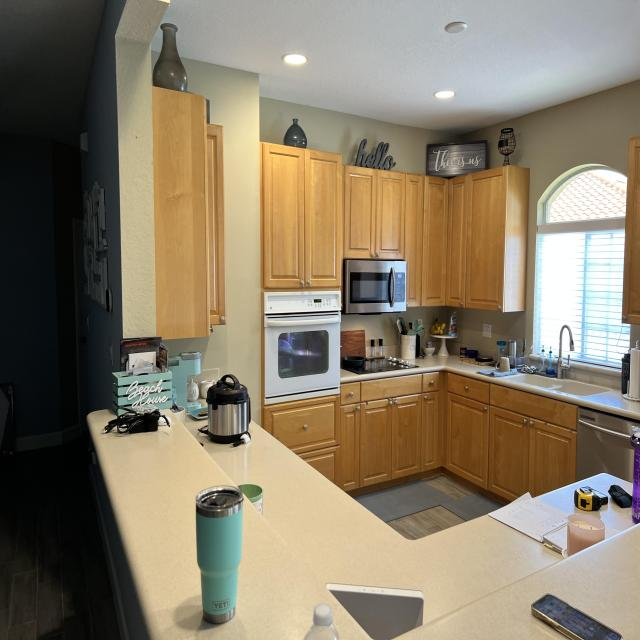Appliance_Microwave: (343, 258, 407, 315)
Appliance_Oven: (261, 289, 341, 407)
Appliance_Sink: (511, 325, 610, 396)
Appliance_Stove: (343, 356, 410, 375)
Cabinet_Flat: (340, 372, 577, 429)
Cabinet_Raised_Panel: (261, 143, 528, 313), (262, 391, 576, 501), (186, 92, 227, 340), (622, 137, 640, 328)
Countertop_Granite: (187, 421, 633, 622), (87, 410, 375, 640), (392, 523, 640, 640), (340, 357, 640, 421)
